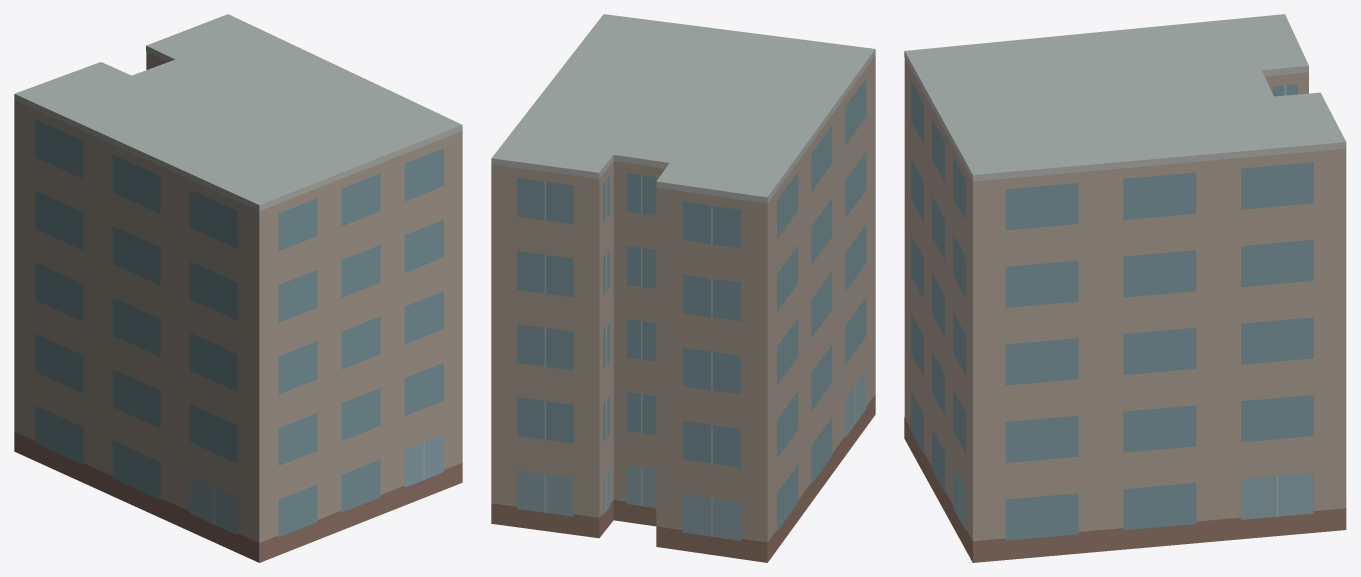
The model's file is survey-upis-33026017.glb.
3 views of the same model, side by side, from view 1: azimuth 30°, elevation 25°; view 2: azimuth 150°, elevation 25°; view 3: azimuth 270°, elevation 25° (orthographic). The views are drawn at different scales.
Visible parts, largest first — view 1: survey-upis-33026017.tmp; view 2: survey-upis-33026017.tmp; view 3: survey-upis-33026017.tmp.
Part boxes in pixels (x1=…): survey-upis-33026017.tmp: x1=14, y1=14, x2=462, y2=562; survey-upis-33026017.tmp: x1=491, y1=14, x2=875, y2=562; survey-upis-33026017.tmp: x1=904, y1=14, x2=1346, y2=562.
Size of the model in its own units: 12.92 by 14.5 by 14.98.
